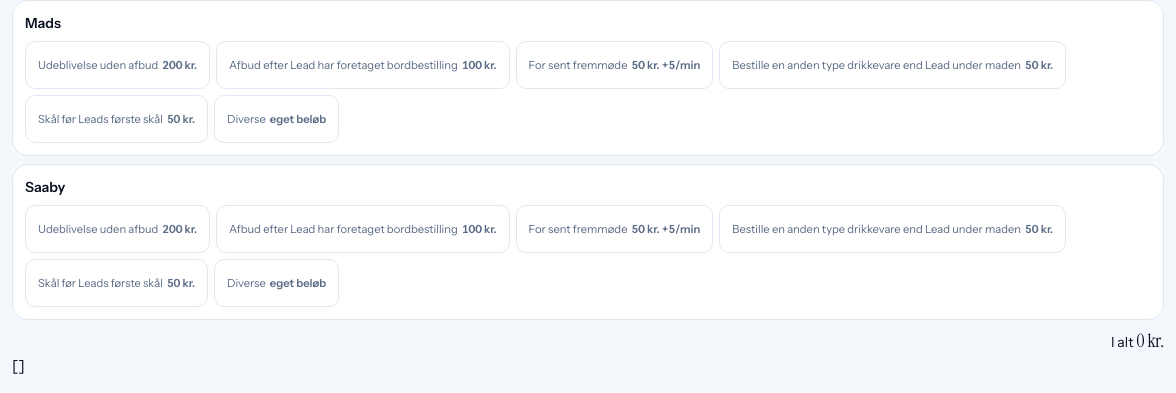
the running total is the sum of what has been tapped
Click the button "Udeblivelse uden afbud 200 kr." below "Mads": point(118, 65) [25,41,210,89]
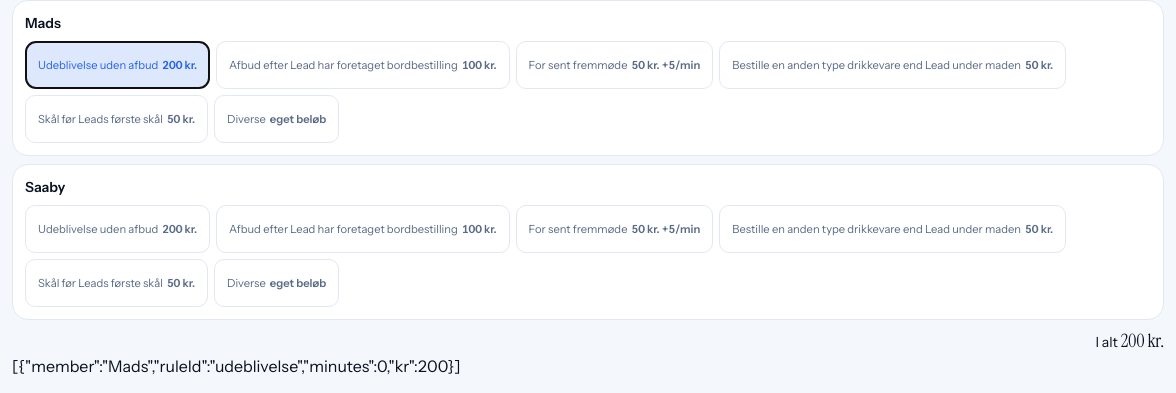
Click the button "Skål før Leads første skål 50 kr." below "Saaby": point(116, 283) [25,259,208,307]
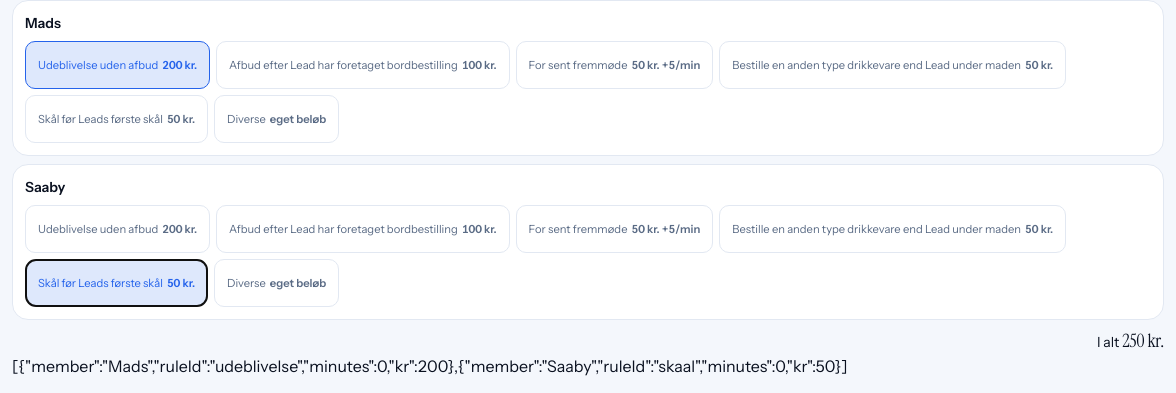
Result: the text "250 kr." is shown at [1122,329,1164,353]
